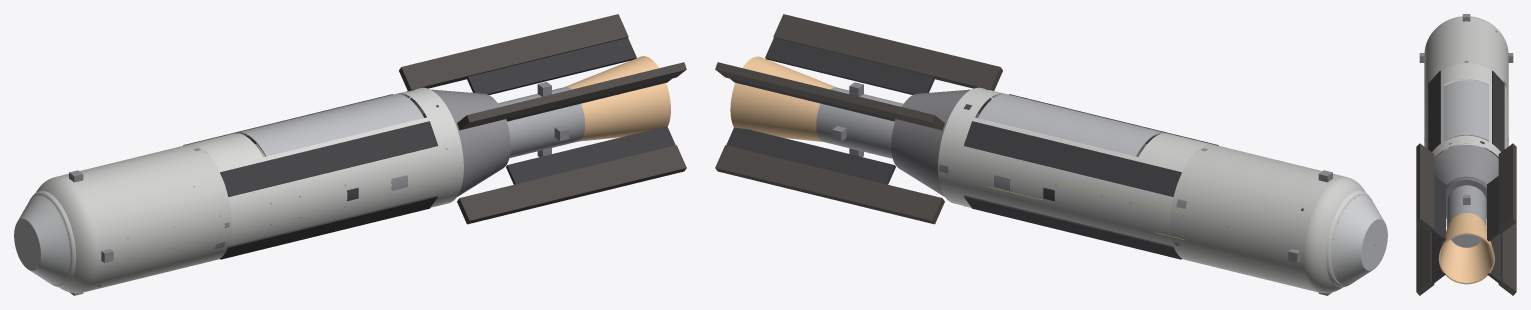
Rendered from wayfarer_I4_in_out_447c05cc.glb.
3 views of the same model, side by side, from view 1: azimuth 30°, elevation 25°; view 2: azimuth 150°, elevation 25°; view 3: azimuth 270°, elevation 25° (orthographic). The views are drawn at different scales.
Visible parts, largest first — view 1: Exterior, crown closed/hull_armor, Exterior, crown closed/radiator, Exterior, crown closed/hotfin, Exterior, crown closed/hull_skin, Exterior, crown closed/door, Exterior, crown closed/nozzle, Exterior, crown closed/thrust_cone, Exterior, crown closed/crown_tambour, Exterior, crown closed/reactor, Exterior, crown closed/rcs, Exterior, crown closed/crown_brow; view 2: Exterior, crown closed/hull_armor, Exterior, crown closed/radiator, Exterior, crown closed/hotfin, Exterior, crown closed/hull_skin, Exterior, crown closed/door, Exterior, crown closed/nozzle, Exterior, crown closed/thrust_cone, Exterior, crown closed/crown_tambour, Exterior, crown closed/reactor, Exterior, crown closed/rcs, Exterior, crown closed/crown_brow; view 3: Exterior, crown closed/hotfin, Exterior, crown closed/radiator, Exterior, crown closed/hull_armor, Exterior, crown closed/nozzle, Exterior, crown closed/door, Exterior, crown closed/hull_skin, Exterior, crown closed/thrust_cone, Exterior, crown closed/reactor, Exterior, crown closed/shield, Exterior, crown closed/rcs.
Part boxes in pixels (x1,y1,x2,y2): Exterior, crown closed/hull_armor: (36, 144, 231, 293); Exterior, crown closed/radiator: (183, 38, 675, 259); Exterior, crown closed/hotfin: (399, 14, 686, 224); Exterior, crown closed/hull_skin: (190, 87, 463, 259); Exterior, crown closed/door: (235, 94, 423, 156); Exterior, crown closed/nozzle: (565, 56, 670, 141); Exterior, crown closed/thrust_cone: (410, 89, 510, 196); Exterior, crown closed/crown_tambour: (14, 195, 70, 285); Exterior, crown closed/reactor: (498, 87, 585, 158); Exterior, crown closed/rcs: (69, 82, 569, 295); Exterior, crown closed/crown_brow: (29, 190, 76, 287); Exterior, crown closed/hull_armor: (1170, 144, 1365, 293); Exterior, crown closed/radiator: (726, 38, 1218, 259); Exterior, crown closed/hotfin: (715, 14, 1002, 224); Exterior, crown closed/hull_skin: (938, 87, 1211, 259); Exterior, crown closed/door: (978, 94, 1166, 156); Exterior, crown closed/nozzle: (730, 56, 835, 141); Exterior, crown closed/thrust_cone: (891, 89, 991, 196); Exterior, crown closed/crown_tambour: (1331, 195, 1387, 285); Exterior, crown closed/reactor: (816, 87, 903, 158); Exterior, crown closed/rcs: (832, 82, 1332, 295); Exterior, crown closed/crown_brow: (1325, 190, 1372, 287); Exterior, crown closed/hotfin: (1416, 143, 1516, 295); Exterior, crown closed/radiator: (1428, 70, 1504, 283); Exterior, crown closed/hull_armor: (1424, 16, 1508, 97); Exterior, crown closed/nozzle: (1438, 213, 1494, 284); Exterior, crown closed/door: (1444, 80, 1488, 141); Exterior, crown closed/hull_skin: (1424, 63, 1508, 156); Exterior, crown closed/thrust_cone: (1434, 144, 1498, 218); Exterior, crown closed/reactor: (1447, 185, 1486, 247); Exterior, crown closed/shield: (1446, 177, 1486, 217); Exterior, crown closed/rcs: (1419, 14, 1513, 226).
Bounding box in the file's own units: 54.61 × 10 × 10.73.
